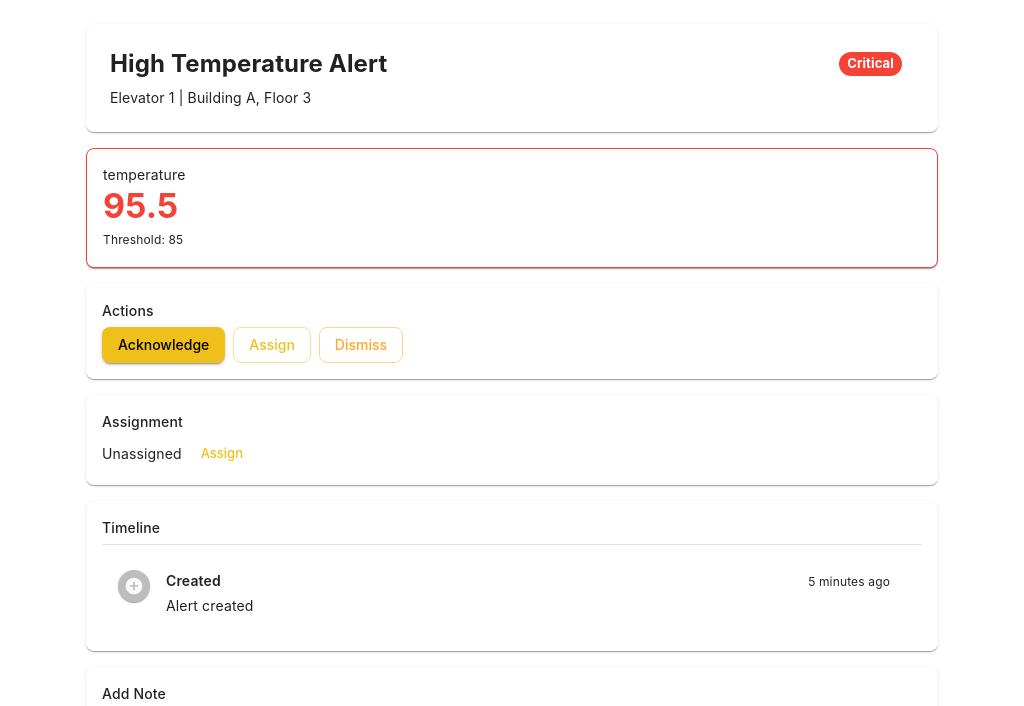
Test: AlertDetailPage › acknowledge updates status badge
Click the button with test id "acknowledge-btn" at point(164, 345), box [102,327,225,363]
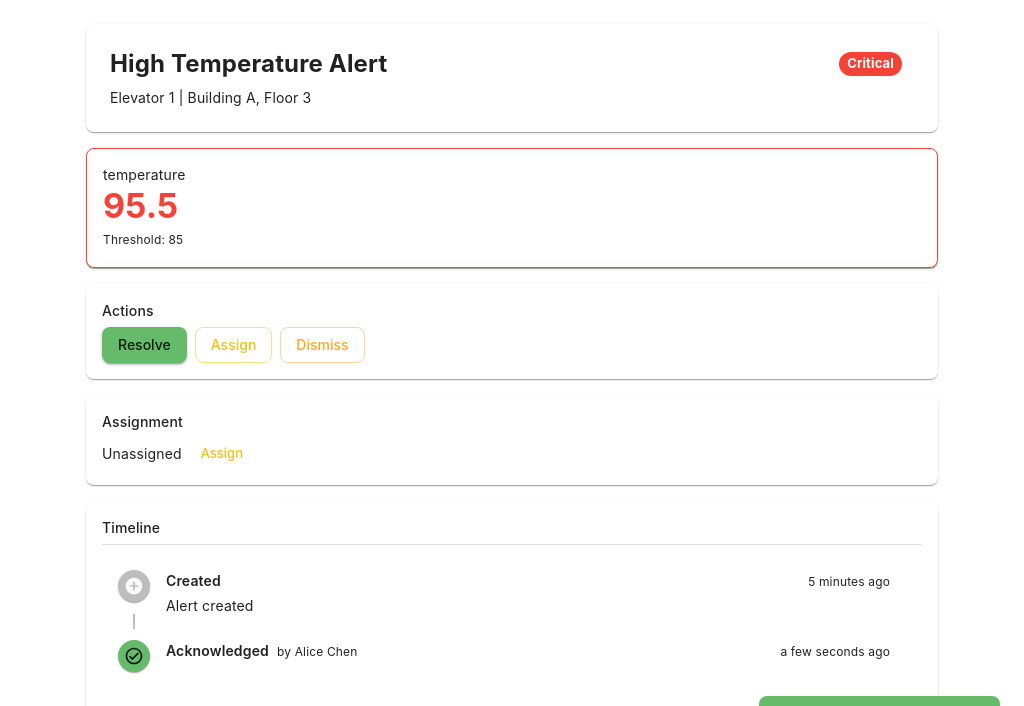
Expected: the button with test id "acknowledge-btn" is gone
